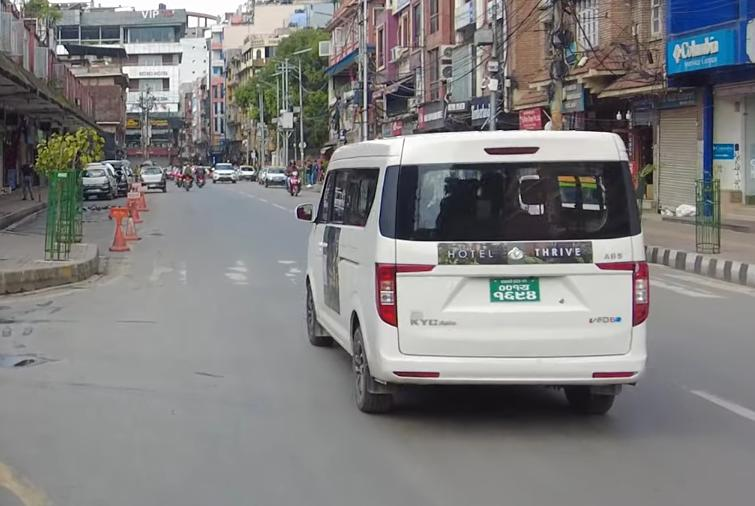car: (211, 161, 237, 188)
micro_bus: (285, 124, 655, 421)
